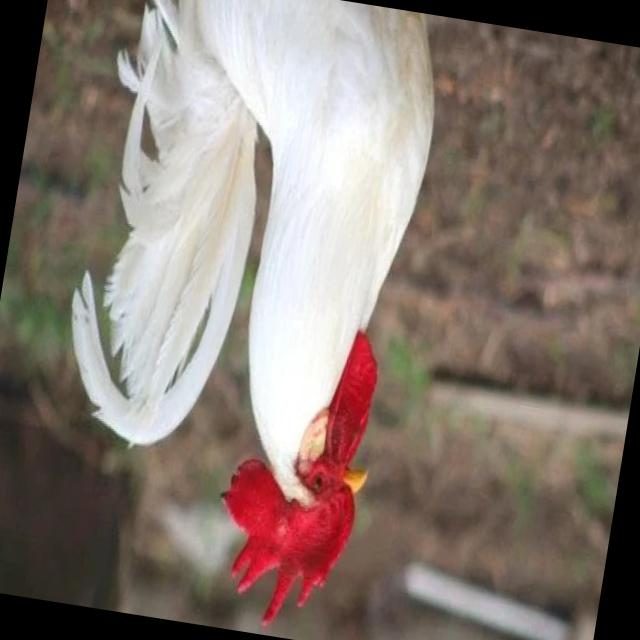Healthy: (27, 0, 450, 639)
